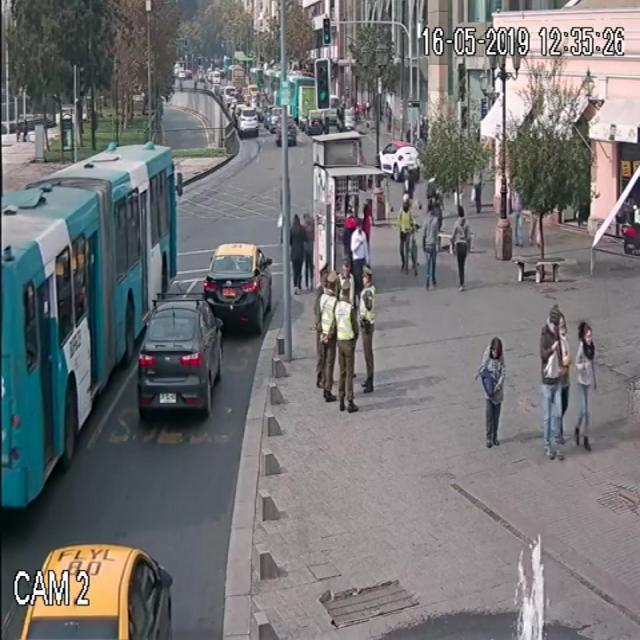AB: (1, 125, 189, 528)
